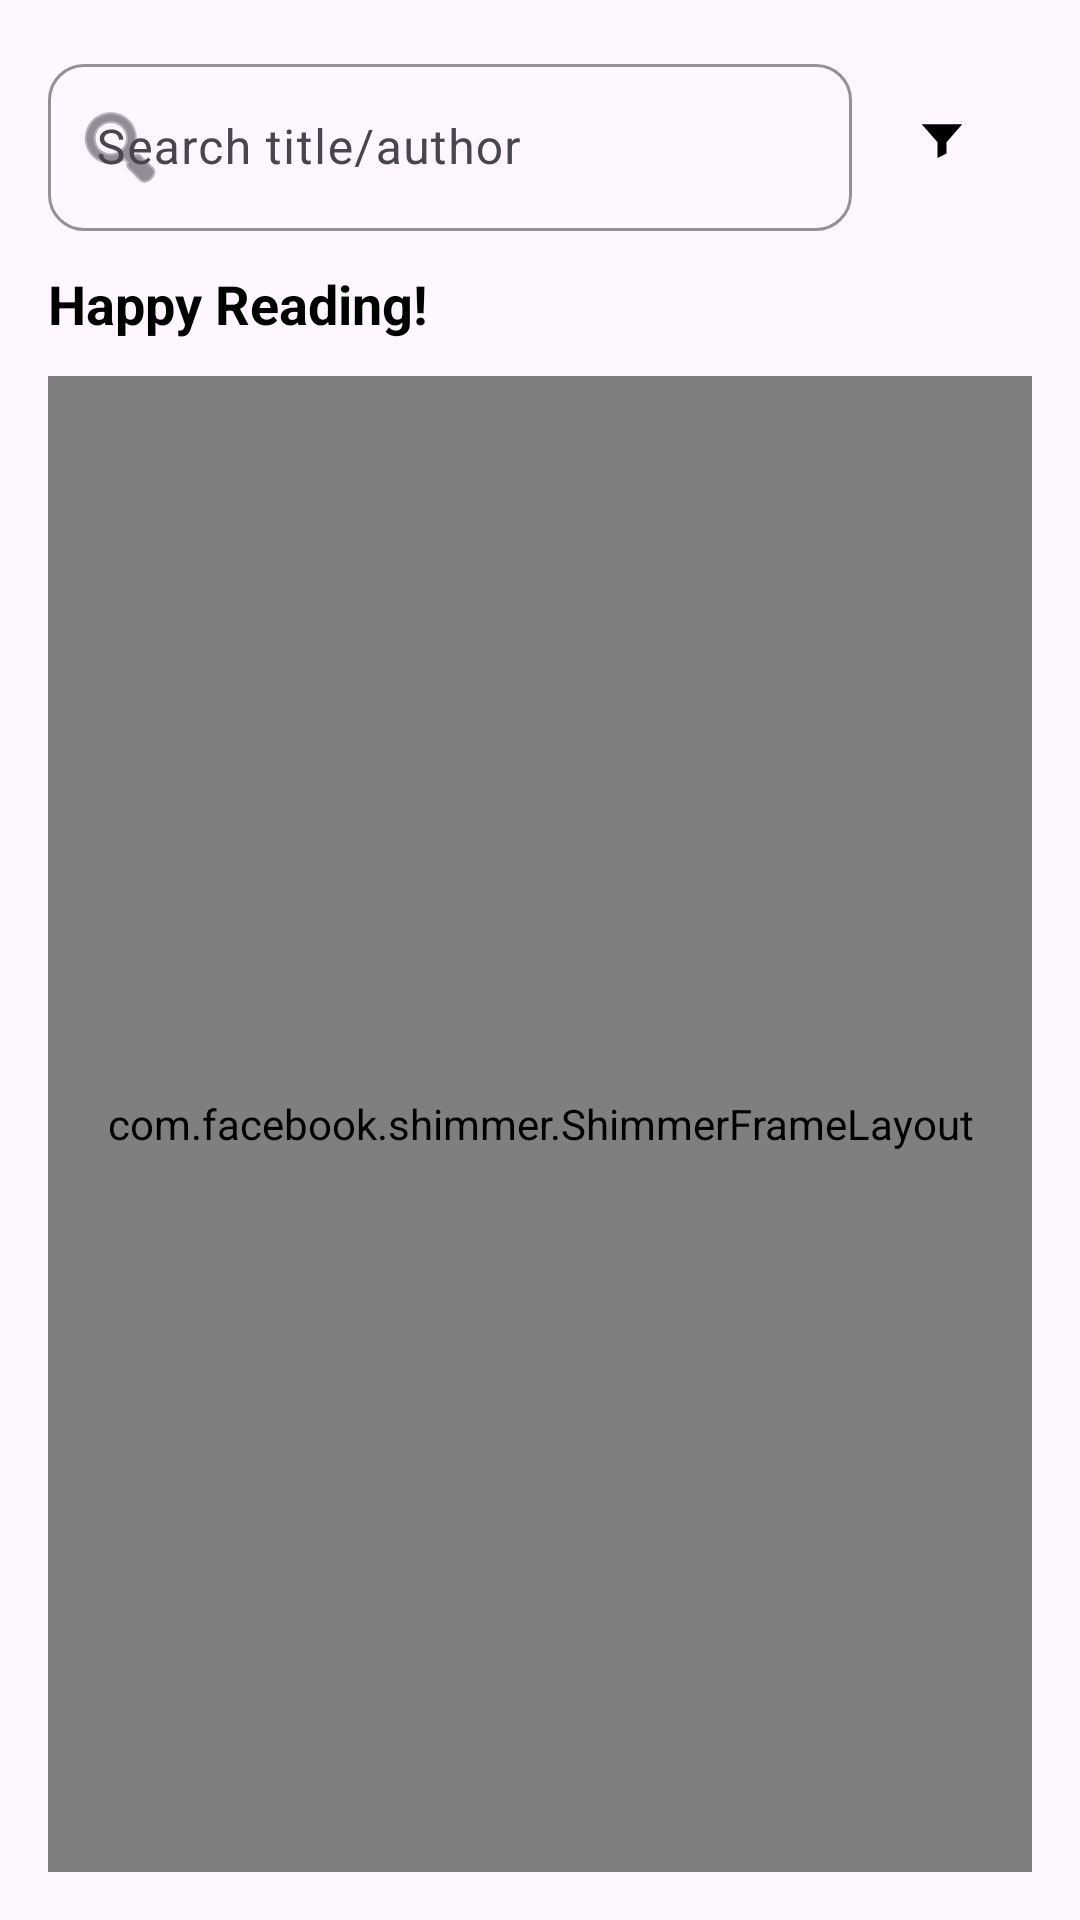

Where icons sit on this 1080px×1920px app screen, as (x1, y1, x2, y2):
filter: (922, 124, 962, 158)
